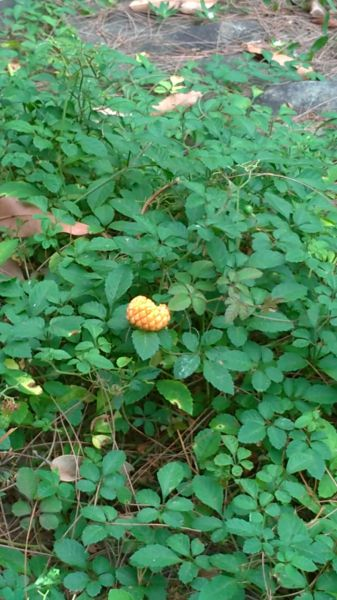eggs: (125, 294, 175, 335)
